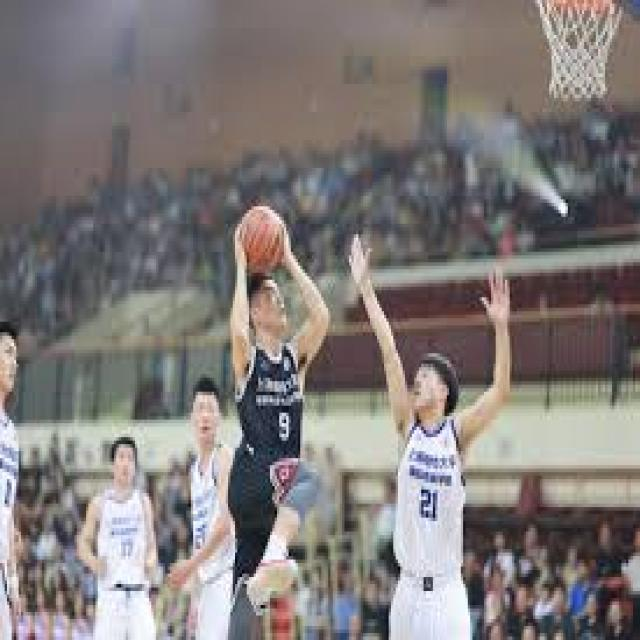rim: (242, 210, 282, 270)
